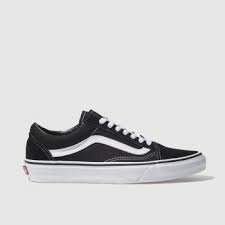Sneakers: (21, 108, 209, 186)
